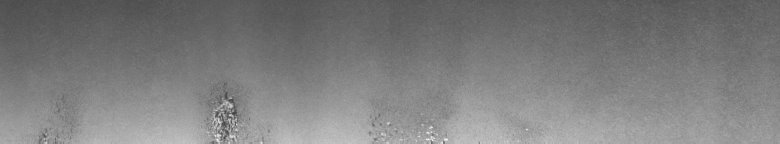hc: (206, 83, 248, 136)
